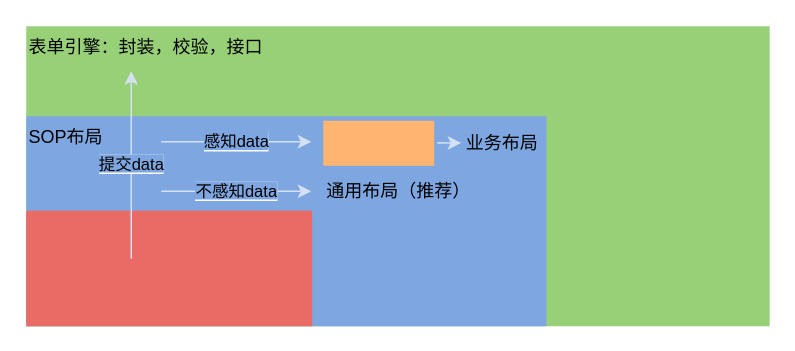
The diagram is 795 pixels wide and 351 high, and some of its shapes have lost their labels. The box of each missing label's shape, as (x1, y1, x2, y2) in pixels:
SOP微模块: (26, 210, 311, 326)
业务组件: (322, 120, 434, 165)
